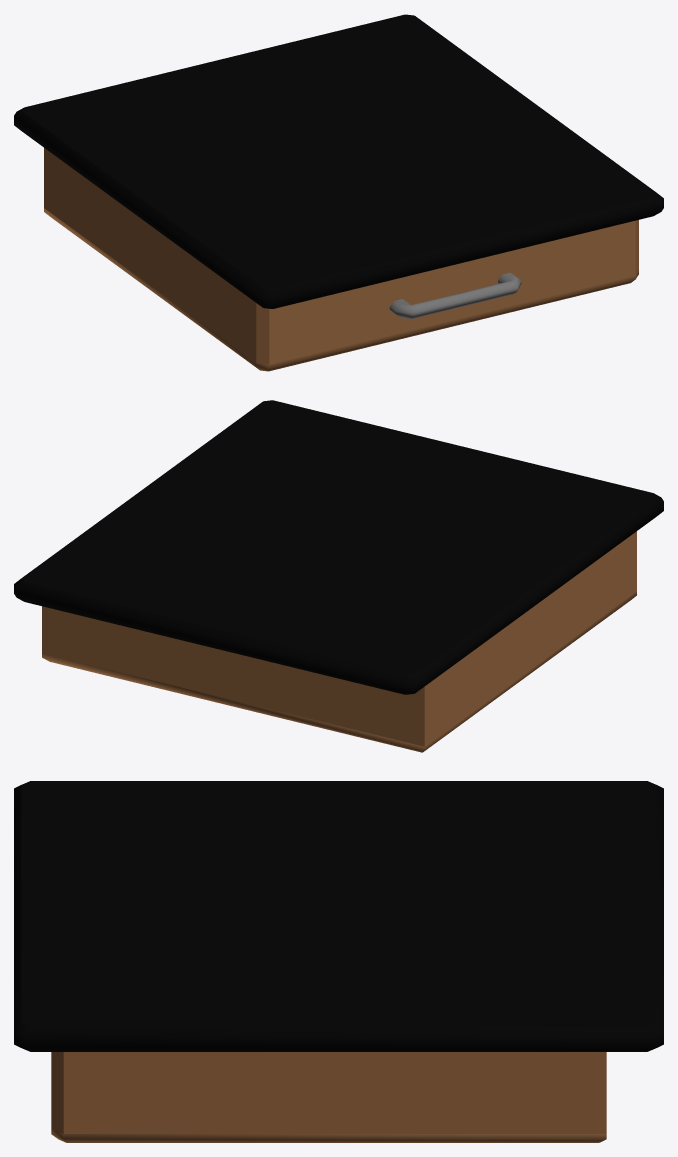
The model's file is platform_table.fbx.
3 views of the same model, one above another, from view 1: azimuth 30°, elevation 25°; view 2: azimuth 150°, elevation 25°; view 3: azimuth 270°, elevation 25° (orthographic). The views are drawn at different scales.
Parts seen in each view (by area): view 1: platform_table; view 2: platform_table; view 3: platform_table.
Boxes of the visible parts, box(x1,y1,x2,y2) form: platform_table: box(14, 14, 663, 371); platform_table: box(14, 400, 663, 752); platform_table: box(14, 781, 663, 1142).
Bounding box in the file's own units: 211 × 47.71 × 230.
